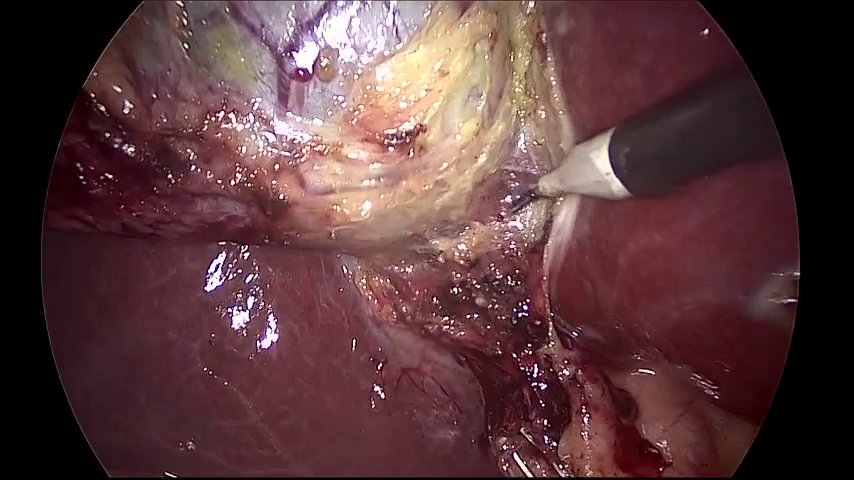lhook: (509, 57, 785, 212)
